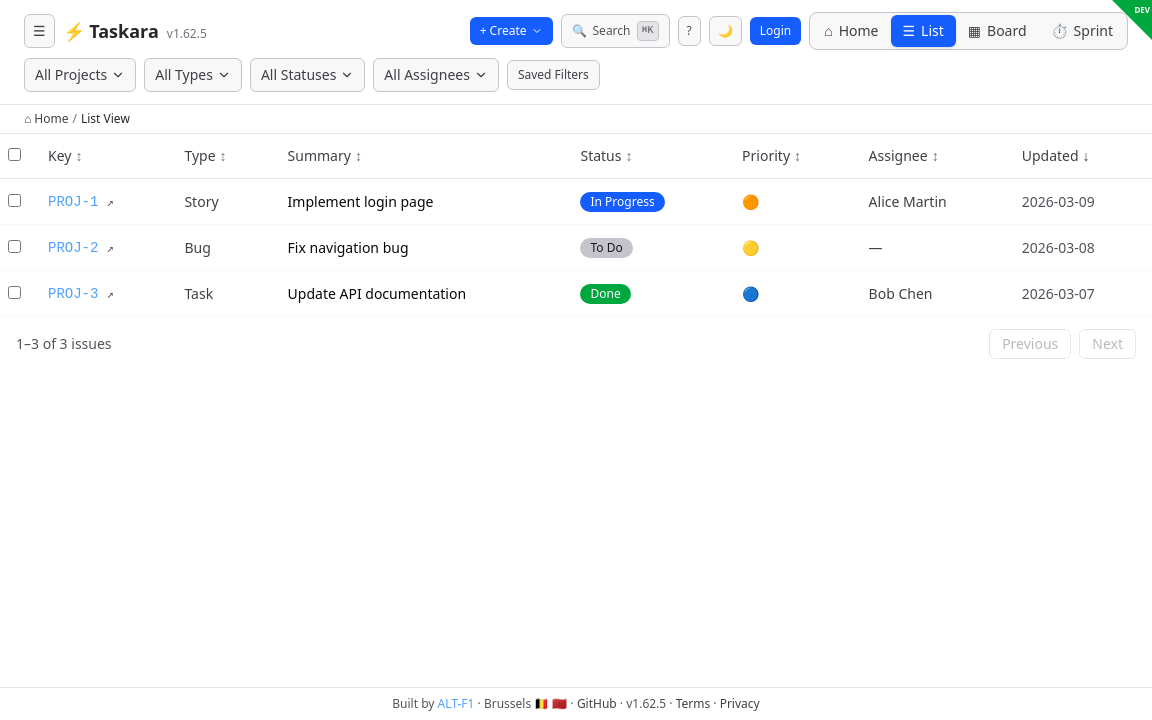
Test: Feature: Assignee dropdown with project members › Scenario: Assignee dropdown includes Unassigned placeholder › Given the assignee dropdown is open, then it should include an 'Unassigned' option
Click the text "PROJ-1" at point(576, 202), box [0,178,1151,224]
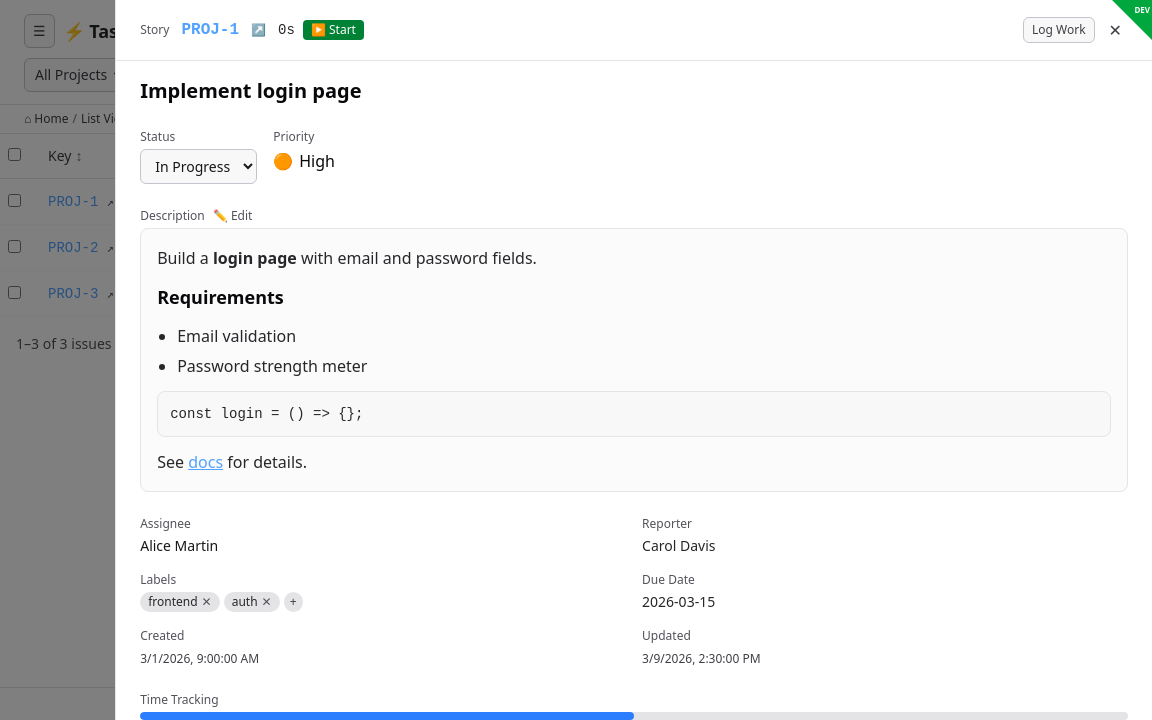
Check: the button with aria-label "Edit assignee" is shown
Click the button with aria-label "Edit assignee" at point(179, 546), box [136,536,622,556]
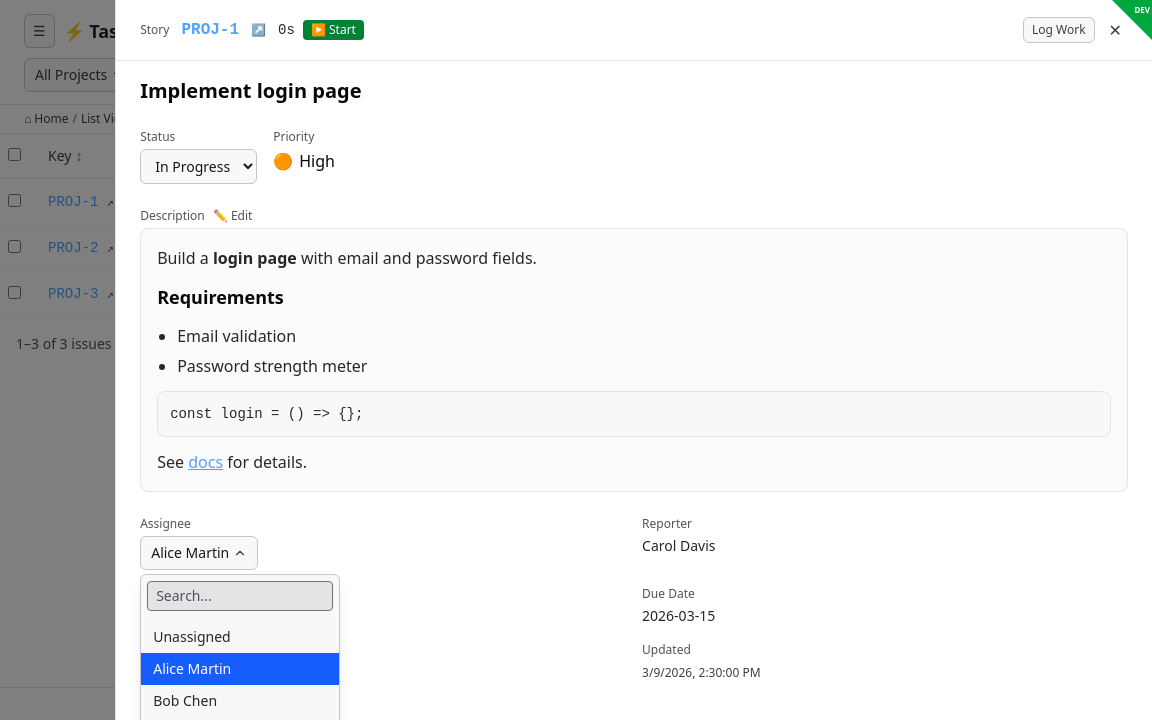
Check: the option "Unassigned" is shown, box [153,627,231,646]
